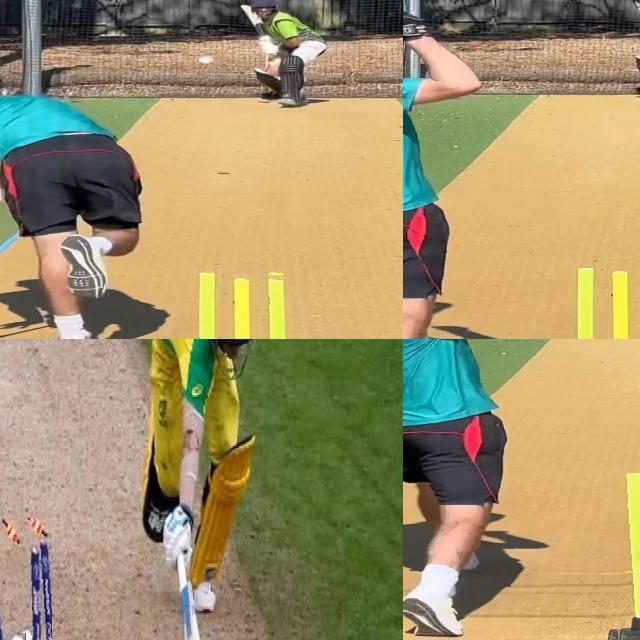Cricket ball: (194, 54, 220, 68), (10, 631, 25, 640)
Stumps: (184, 267, 308, 339), (0, 518, 52, 640), (606, 473, 640, 640)
